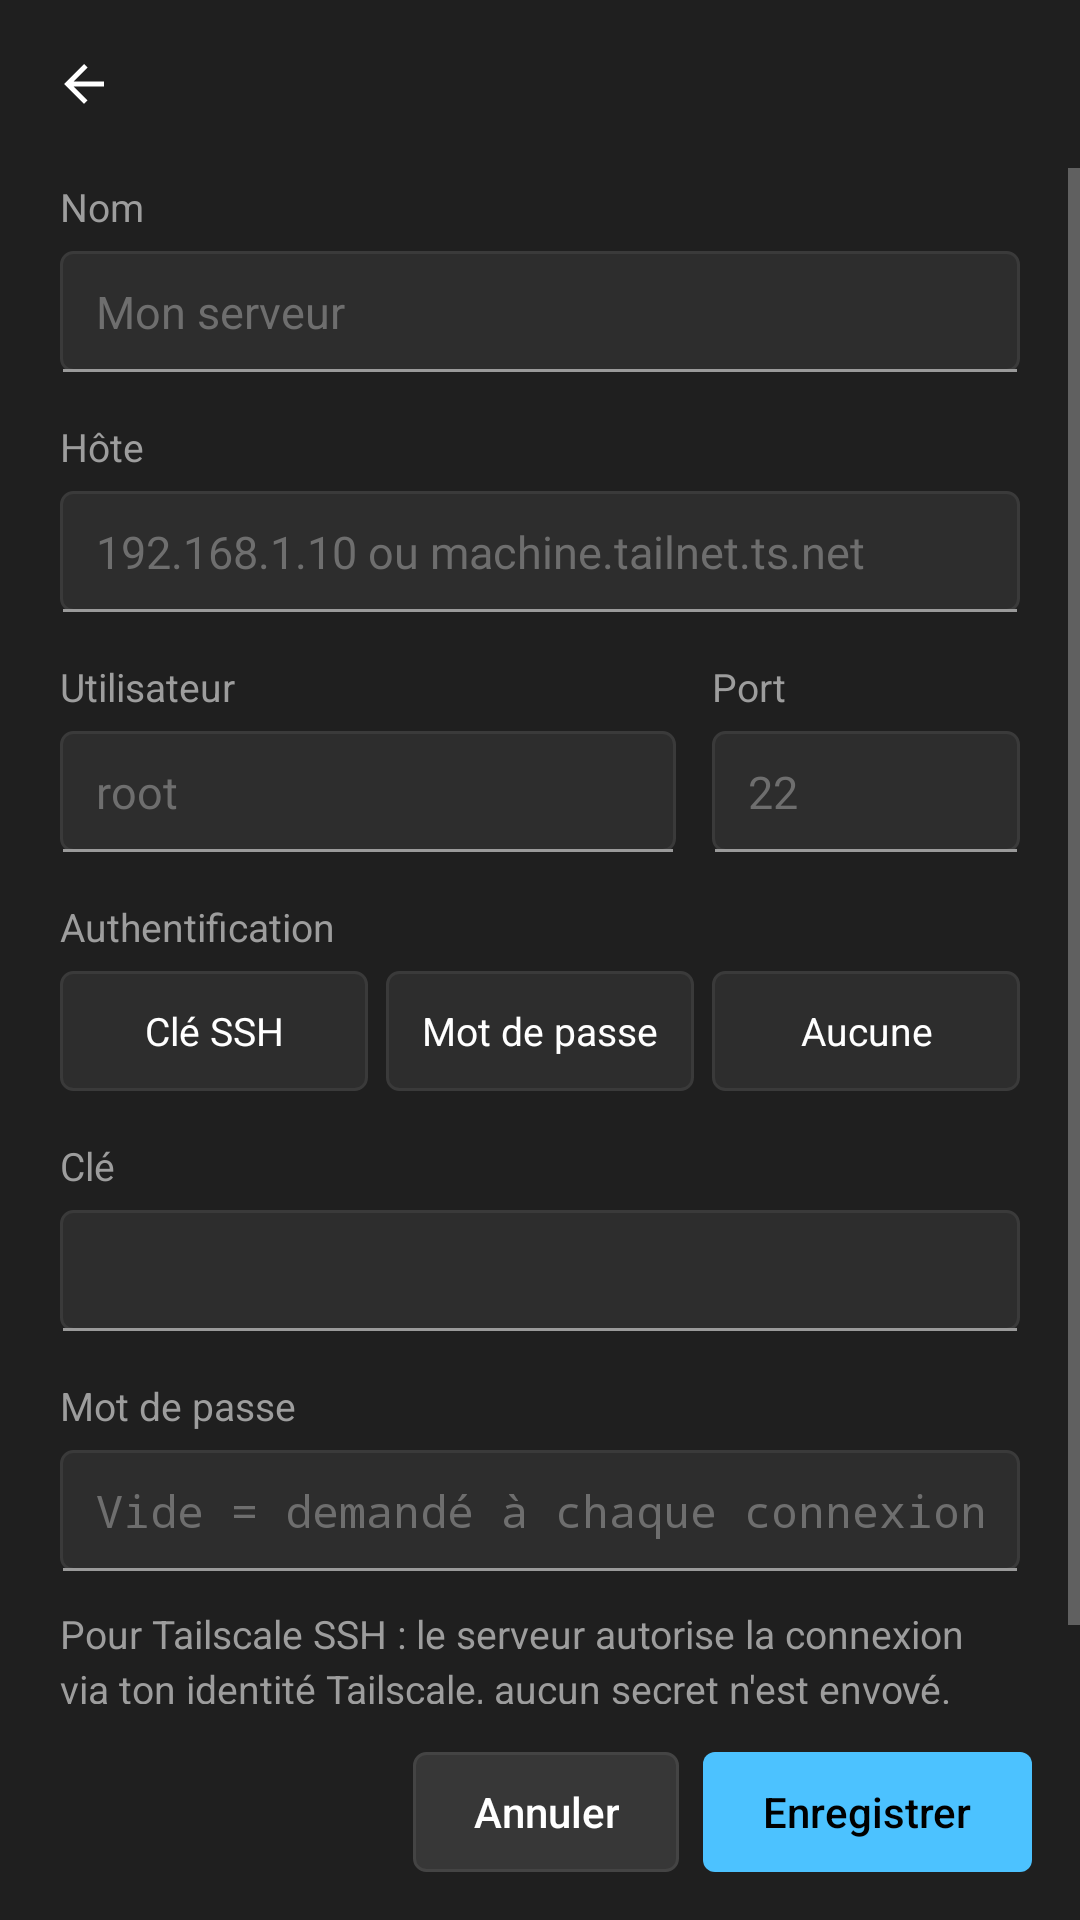

Point at icon controls on the screen. Image size 1080x1920, points as point (x, y).
Retour: point (84, 84)
